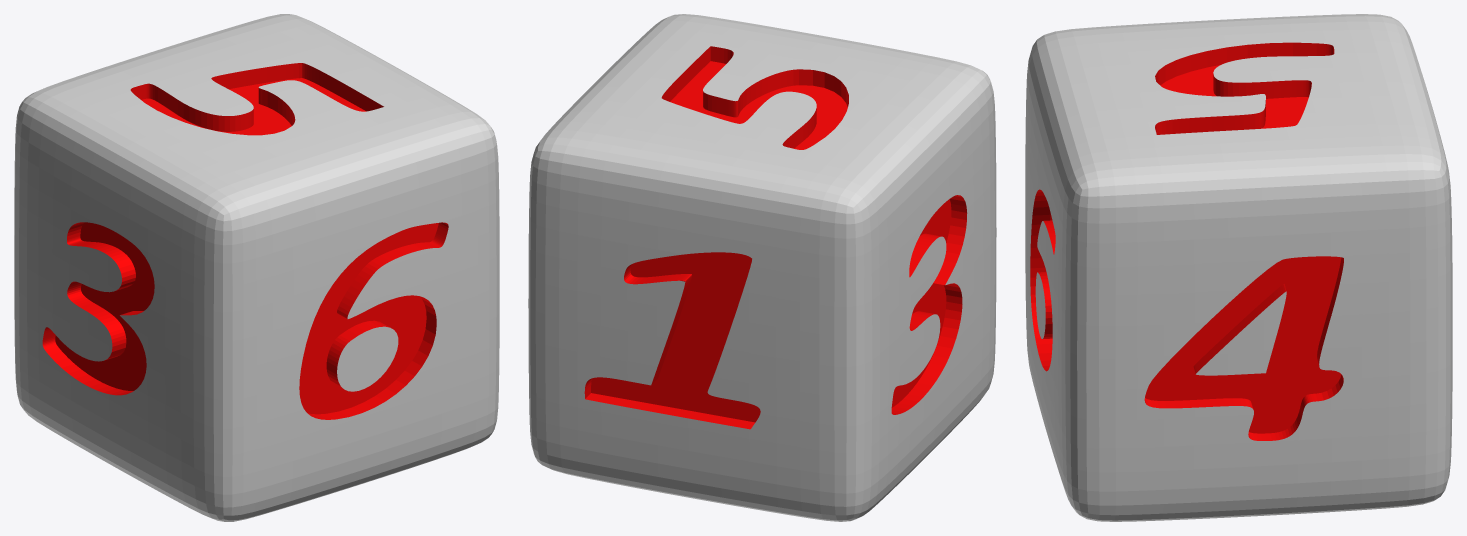
3 views of the same model, side by side, from view 1: azimuth 30°, elevation 25°; view 2: azimuth 150°, elevation 25°; view 3: azimuth 270°, elevation 25° (orthographic). The views are drawn at different scales.
Parts seen in each view (by area): view 1: Cube; view 2: Cube; view 3: Cube.
Boxes of the visible parts, bbox=[...] form: Cube: bbox=[14, 14, 499, 521]; Cube: bbox=[528, 14, 996, 521]; Cube: bbox=[1025, 14, 1452, 521].
Bounding box in the file's own units: 2.13 × 1.99 × 2.13.
